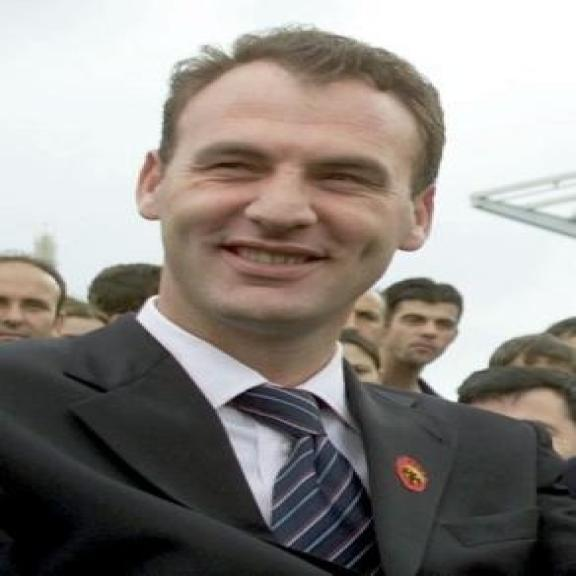face: (131, 67, 445, 329), (384, 290, 463, 371), (2, 261, 70, 351)
